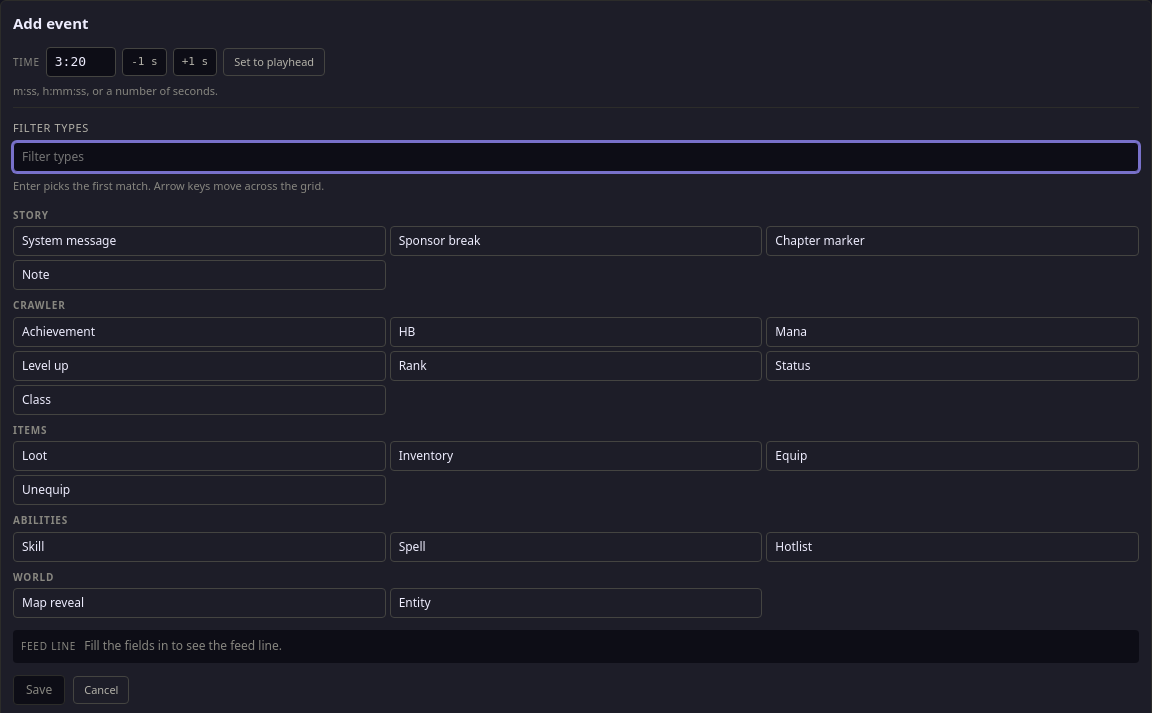
Test: EventForm - the time row (FR-1005) › returns the time to the playhead
Click the button "Note" at (36, 275), box [13,260,386,290]
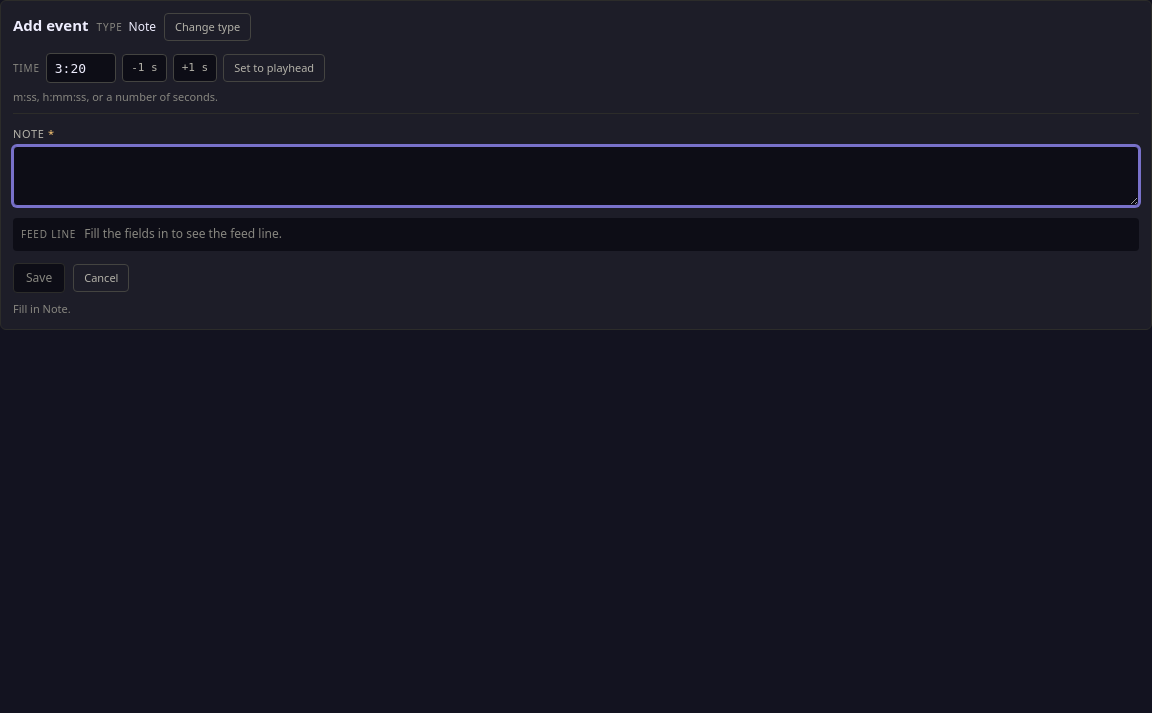
Replace the text in the field with test id "event-time" with "1:00" at (81, 68), box [46,53,116,83]
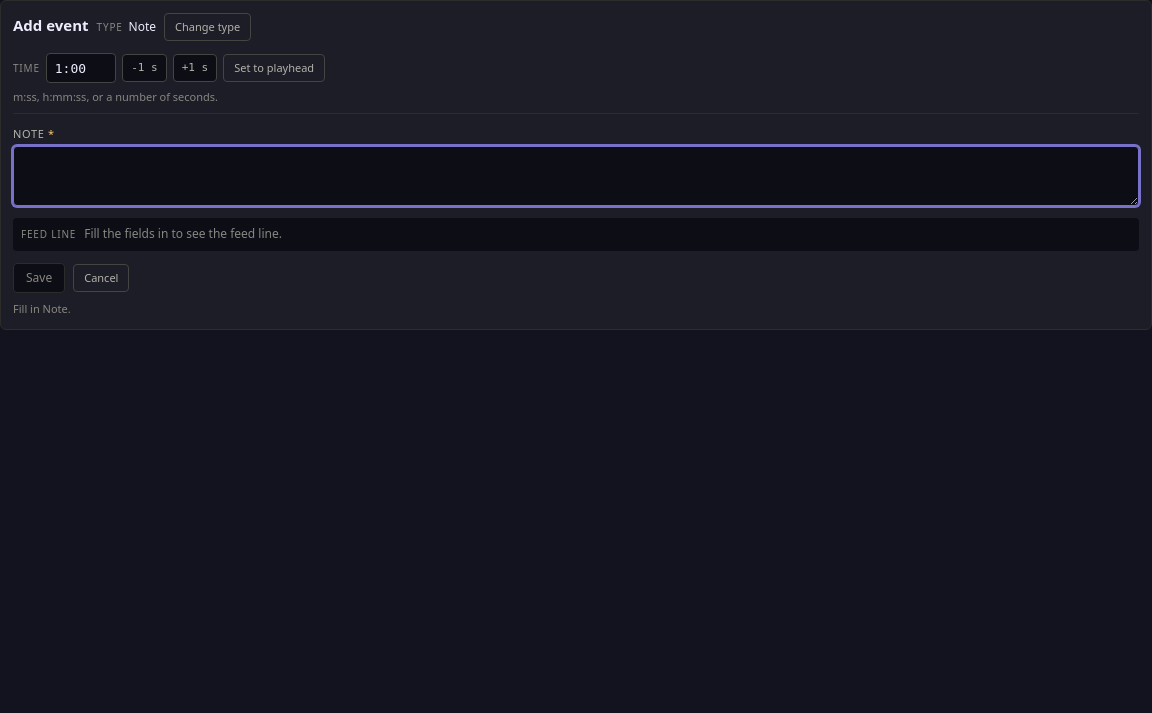
Click the button with test id "set-to-playhead" at (274, 68), box [223,54,325,82]
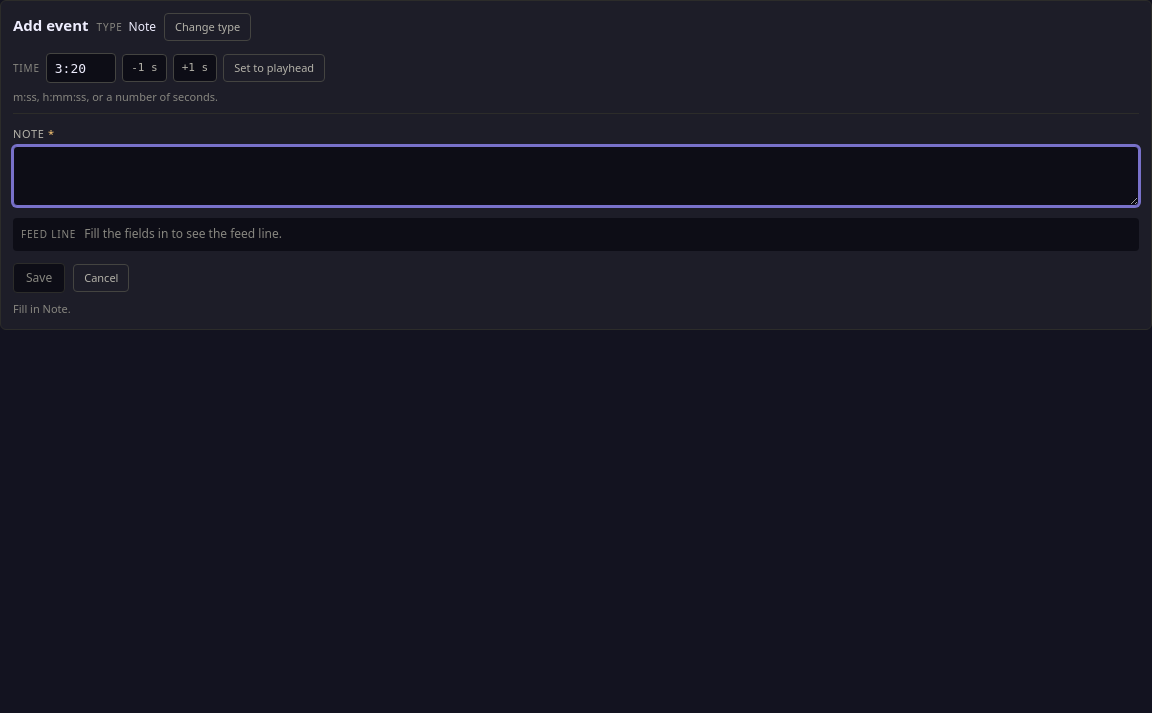
Expected: the field with test id "event-time" holds "3:20", [46,53,116,83]
